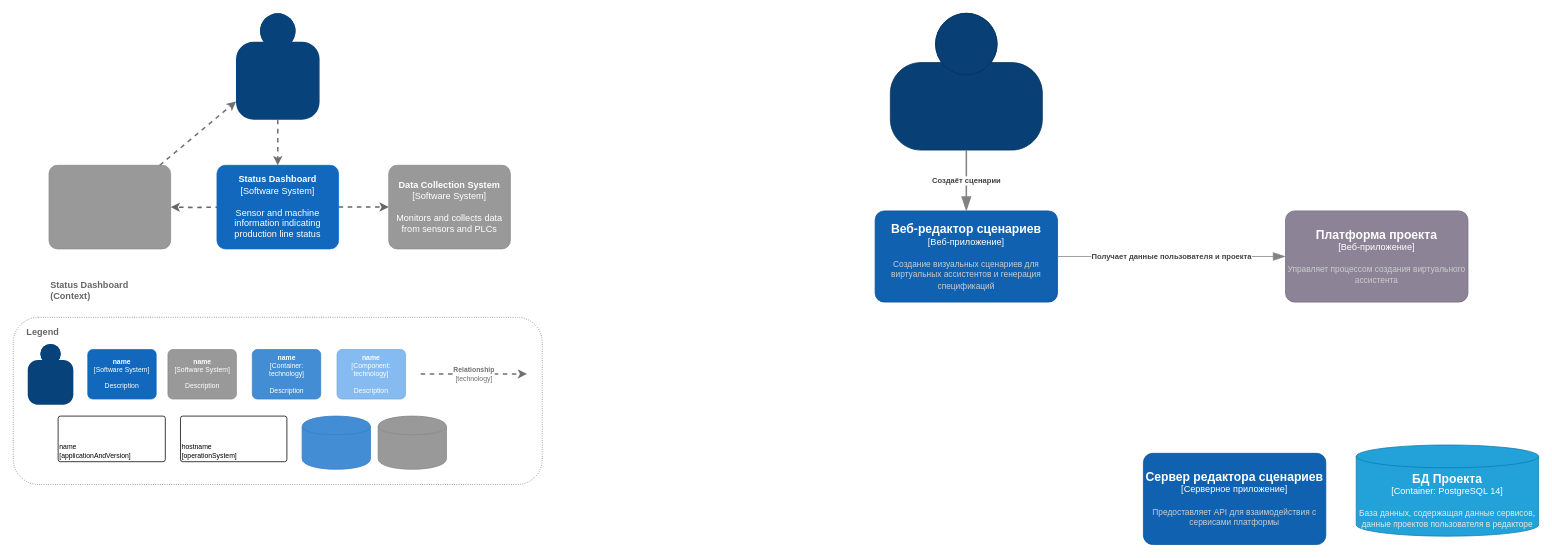
This 1552x558 diagram has some shape labels left out. The shapes that lost their labels are listed below. From the top down, each one's centre as x and y in pixels, then its label:
(x=277, y=66): Support Staff [Person] Monitors the production line
(x=966, y=81): Проектировщик сценариев [Пользователь]
(x=109, y=207): Alert System [Software System] Sends SMS notifications of problems
(x=50, y=374): name [Person] Description
(x=335, y=442): Database [Container: Technology] Description
(x=411, y=442): Database [Container: Technology] External
